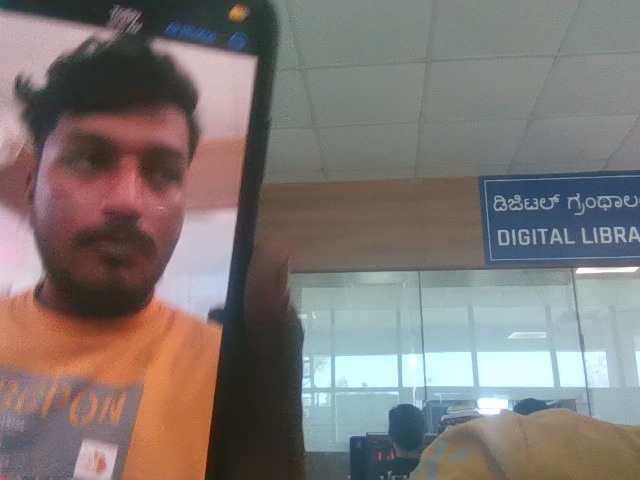fake: (14, 16, 227, 318)
